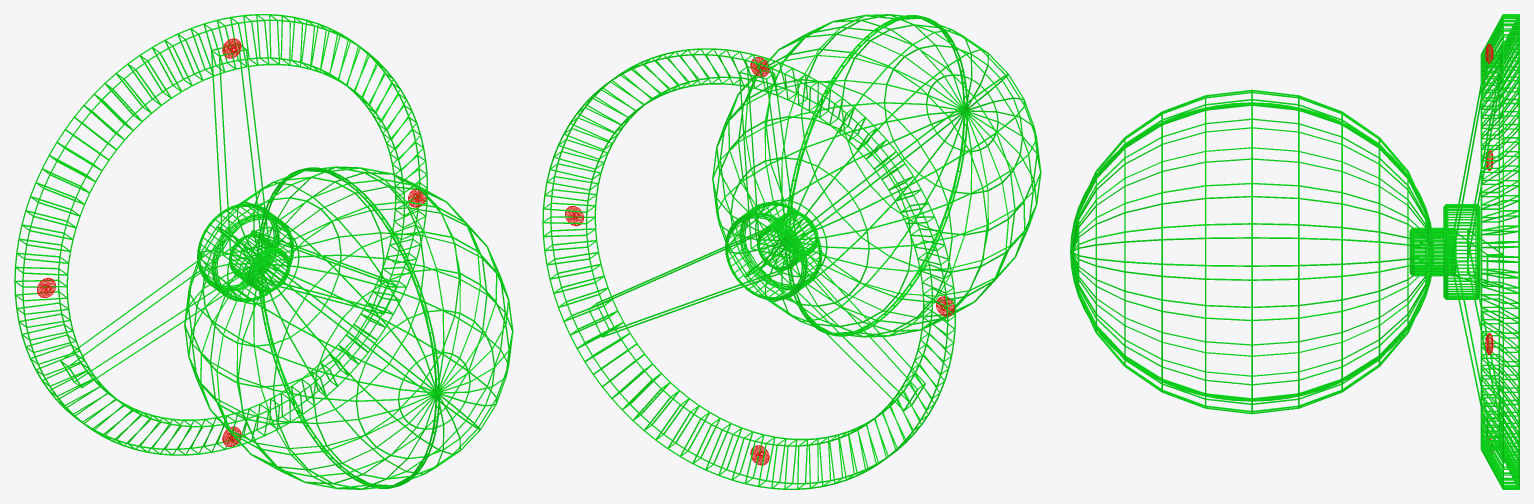
Rendered from gravity-nullifier-highlight-cardinal-orientation-sensors.glb.
The picture shows the model from 3 angles, left to right: view 1: azimuth 30°, elevation 25°; view 2: azimuth 150°, elevation 25°; view 3: azimuth 270°, elevation 25°; orthographic projection.
Visible parts, largest first — view 1: central-gravitic-reactor technical wire, fixed-shaped-base technical wire, chassis technical wire, cardinal-orientation-sensors technical wire; view 2: fixed-shaped-base technical wire, central-gravitic-reactor technical wire, chassis technical wire, cardinal-orientation-sensors technical wire; view 3: central-gravitic-reactor technical wire, fixed-shaped-base technical wire, chassis technical wire.
Boxes of the visible parts, x1,y1,x2,y2 form: central-gravitic-reactor technical wire: [184, 166, 513, 489]; fixed-shaped-base technical wire: [14, 14, 427, 455]; chassis technical wire: [229, 233, 290, 292]; cardinal-orientation-sensors technical wire: [37, 38, 426, 446]; fixed-shaped-base technical wire: [542, 48, 955, 489]; central-gravitic-reactor technical wire: [712, 14, 1041, 337]; chassis technical wire: [757, 211, 818, 270]; cardinal-orientation-sensors technical wire: [565, 57, 954, 465]; central-gravitic-reactor technical wire: [1070, 89, 1434, 414]; fixed-shaped-base technical wire: [1443, 14, 1519, 489]; chassis technical wire: [1409, 227, 1456, 276].
Bounding box in the file's own units: 2.41 × 2.41 × 2.27.
